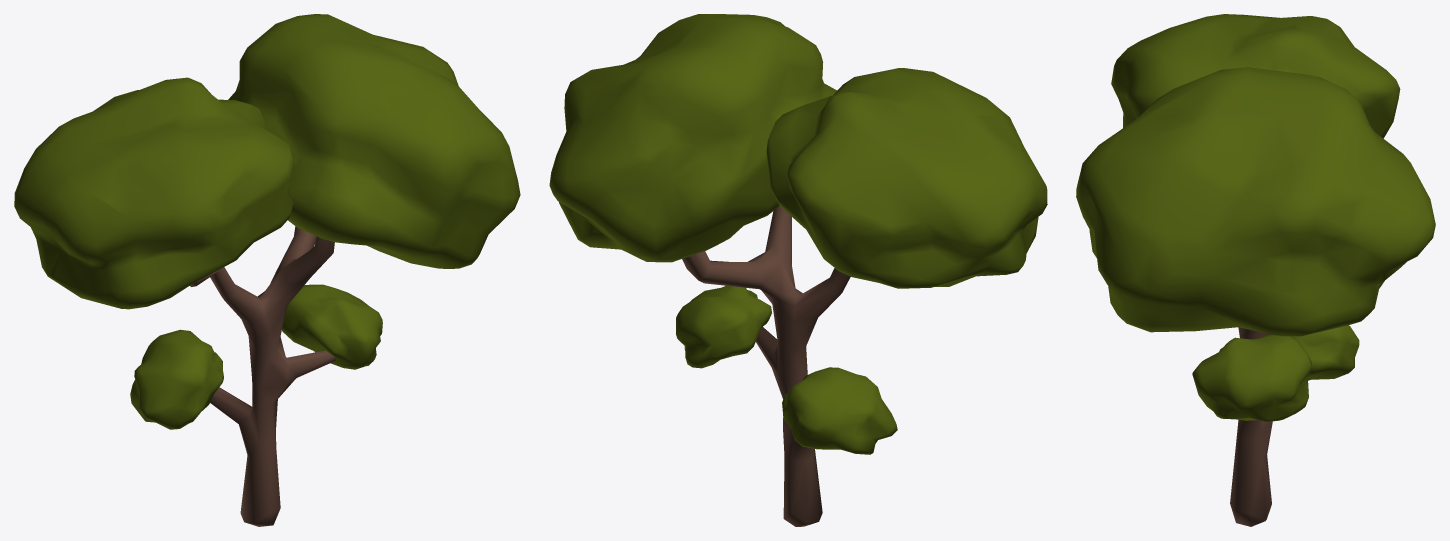
File: Tree4_2.fbx
3 views of the same model, side by side, from view 1: azimuth 30°, elevation 25°; view 2: azimuth 150°, elevation 25°; view 3: azimuth 270°, elevation 25° (orthographic). The views are drawn at different scales.
Visible parts, largest first — view 1: Plane.002; view 2: Plane.002; view 3: Plane.002.
Boxes of the visible parts, bbox=[...] form: Plane.002: bbox=[14, 14, 520, 526]; Plane.002: bbox=[549, 14, 1047, 526]; Plane.002: bbox=[1076, 14, 1435, 526].
Size of the model in its own units: 813 by 833 by 562.
